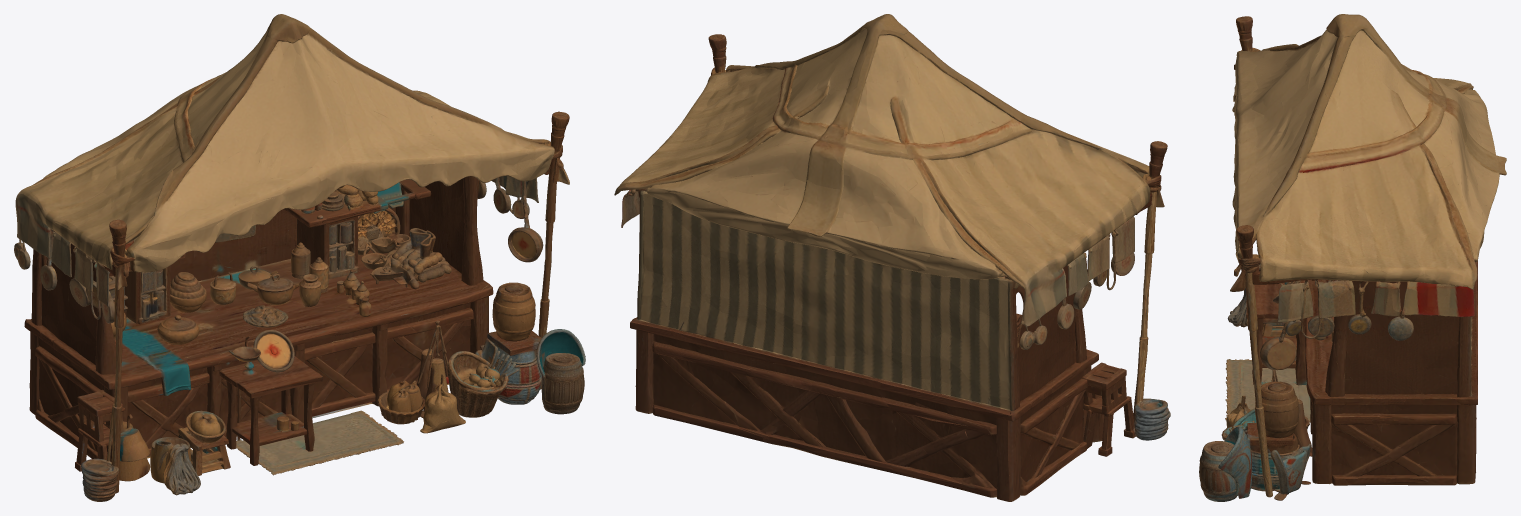
The model's file is GeneralStore_A.glb.
3 views of the same model, side by side, from view 1: azimuth 30°, elevation 25°; view 2: azimuth 150°, elevation 25°; view 3: azimuth 270°, elevation 25° (orthographic). The views are drawn at different scales.
Size of the model in its own units: 1.9 by 1.5 by 1.09.
1 material, 1 textured.
